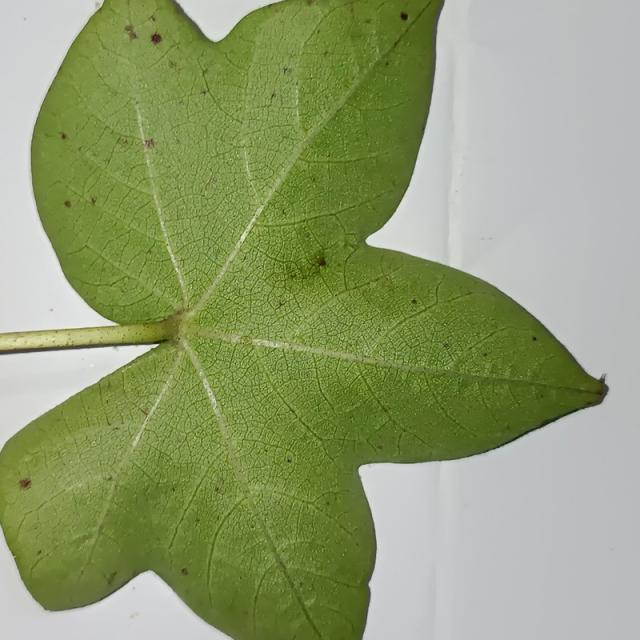Bacterial_Blight: (383, 6, 429, 59), (286, 250, 331, 282), (42, 329, 88, 347), (56, 194, 82, 211), (216, 187, 235, 206), (342, 235, 359, 253), (55, 129, 71, 143), (124, 25, 138, 40), (76, 534, 92, 547), (538, 417, 555, 428), (106, 570, 118, 585), (204, 177, 217, 190), (18, 478, 31, 490), (142, 138, 156, 149), (96, 523, 106, 537), (150, 33, 162, 44), (117, 137, 129, 148), (240, 336, 253, 346), (598, 372, 608, 385), (315, 256, 326, 267), (50, 334, 62, 344), (410, 294, 419, 307), (340, 239, 350, 250), (119, 334, 130, 344), (168, 60, 177, 69), (129, 612, 139, 620), (442, 363, 452, 371), (400, 12, 408, 21), (276, 301, 284, 309), (141, 407, 149, 415), (283, 66, 290, 74), (364, 17, 372, 24), (585, 399, 593, 406), (181, 568, 188, 575), (141, 82, 148, 89), (91, 197, 97, 205), (306, 0, 314, 6), (95, 1, 101, 9), (480, 237, 492, 241), (200, 89, 207, 95), (443, 341, 449, 348), (289, 410, 296, 416), (286, 457, 292, 463), (214, 486, 220, 492), (106, 475, 112, 481), (228, 119, 234, 125), (271, 92, 276, 99), (112, 346, 119, 351), (531, 336, 537, 341), (36, 550, 42, 555), (377, 444, 383, 449), (171, 486, 176, 492), (195, 517, 200, 523), (243, 610, 248, 616), (107, 91, 112, 97), (91, 440, 97, 445), (482, 352, 487, 357), (325, 501, 330, 506), (539, 394, 544, 399), (151, 17, 156, 22), (385, 61, 390, 66), (12, 554, 17, 559), (49, 308, 54, 312), (23, 17, 27, 21)
Cotton: (0, 0, 606, 639)
